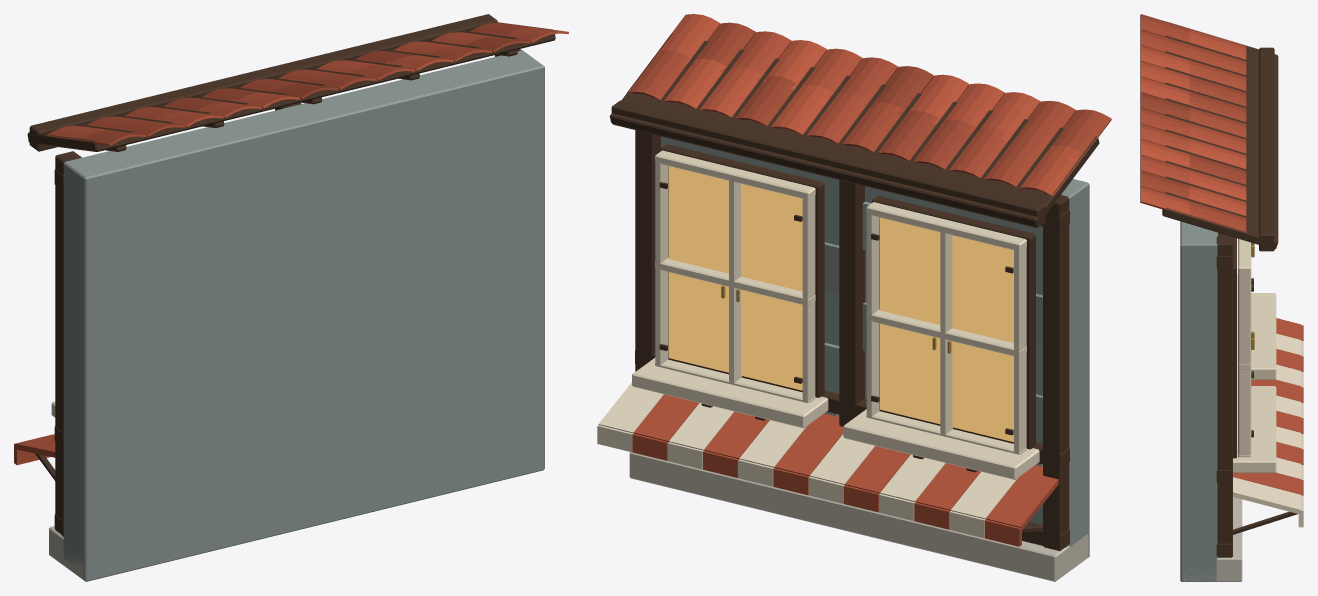
The model's file is SM_Wall_Window_Roof_L1.glb.
3 renders of one model, left to right at view 1: azimuth 30°, elevation 25°; view 2: azimuth 150°, elevation 25°; view 3: azimuth 270°, elevation 25°, orthographic. The views are drawn at different scales.
Parts seen in each view (by area): view 1: SM_Wall_Window_Roof; view 2: SM_Wall_Window_Roof; view 3: SM_Wall_Window_Roof.
Boxes of the visible parts, bbox=[...] form: SM_Wall_Window_Roof: bbox=[14, 14, 568, 581]; SM_Wall_Window_Roof: bbox=[597, 14, 1111, 581]; SM_Wall_Window_Roof: bbox=[1140, 14, 1303, 581].
Bounding box in the file's own units: 4 × 3.82 × 1.47.
